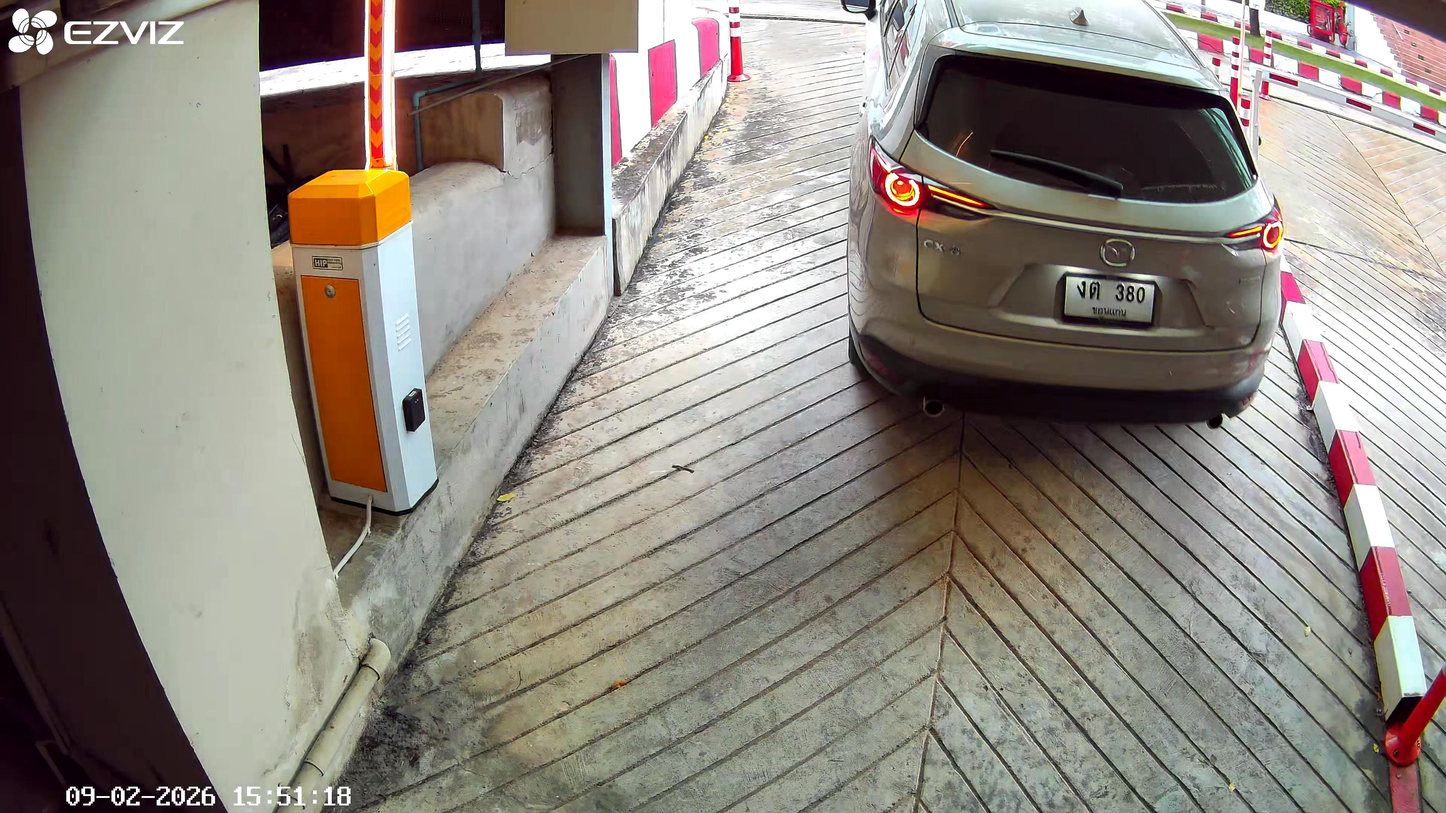car: (845, 3, 1283, 422)
license-plate: (1057, 268, 1159, 328)
